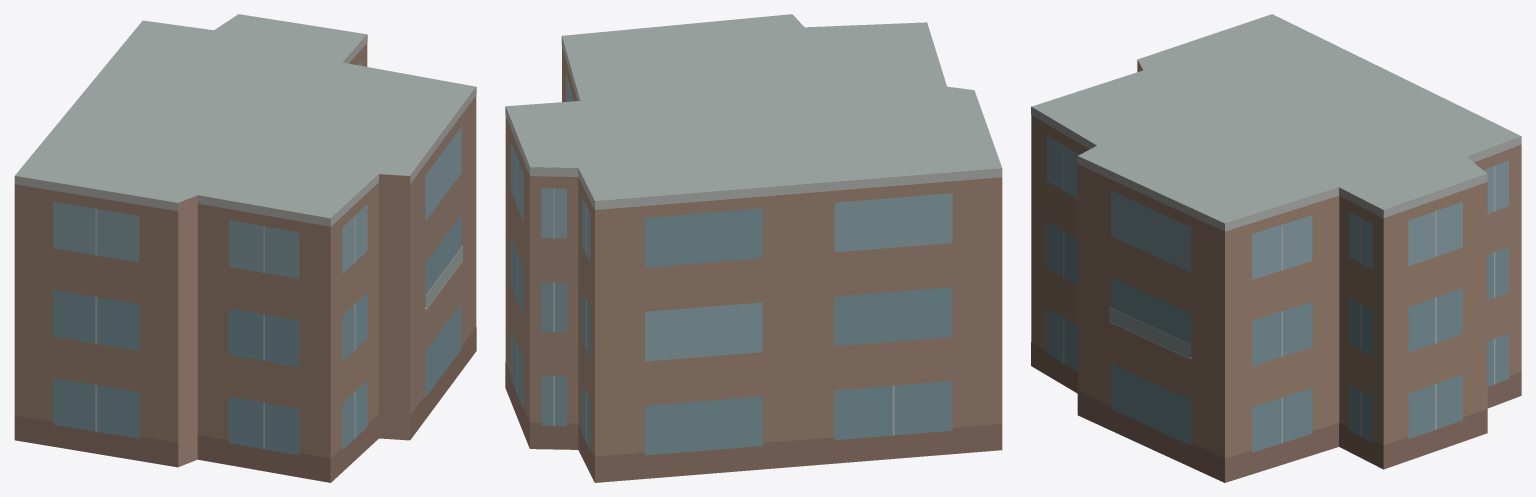
Rendered from survey-upis-32748185.glb.
The picture shows the model from 3 angles, left to right: view 1: azimuth 30°, elevation 25°; view 2: azimuth 150°, elevation 25°; view 3: azimuth 270°, elevation 25°; orthographic projection. The views are drawn at different scales.
Visible parts, largest first — view 1: survey-upis-32748185.tmp; view 2: survey-upis-32748185.tmp; view 3: survey-upis-32748185.tmp.
Part boxes in pixels (x1,y1,x2,y2): survey-upis-32748185.tmp: (14,14,476,482); survey-upis-32748185.tmp: (505,14,1002,482); survey-upis-32748185.tmp: (1031,14,1521,482).
Size of the model in its own units: 13.34 by 7.7 by 13.2.
